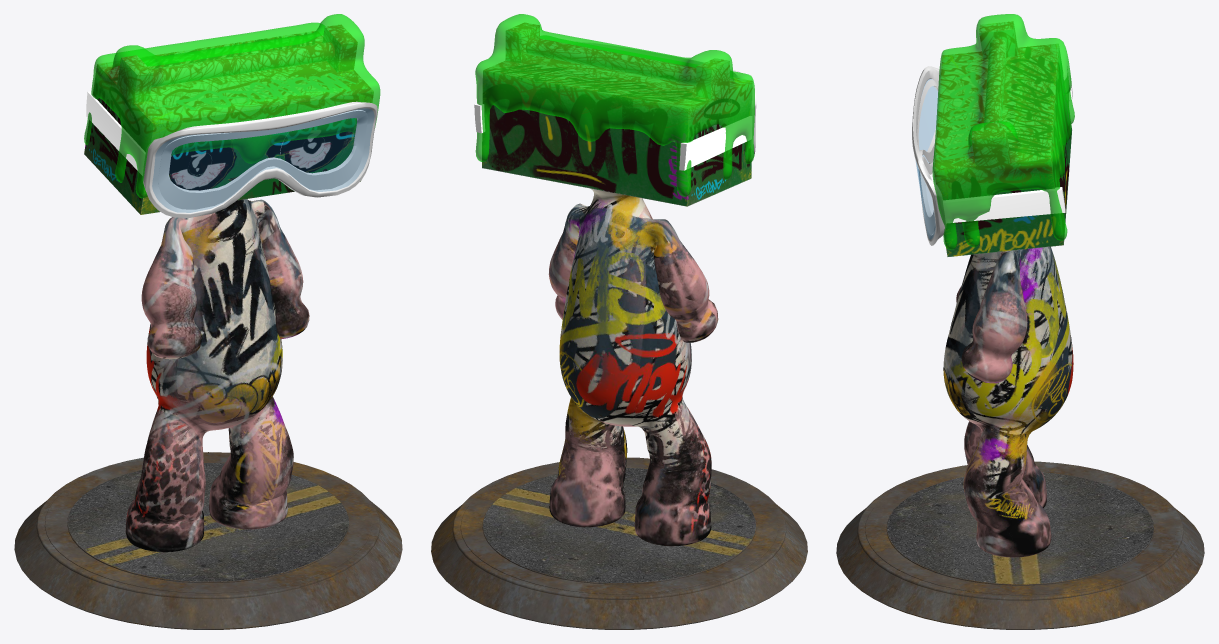
File: 17_sanitized.glb
The picture shows the model from 3 angles, left to right: view 1: azimuth 30°, elevation 25°; view 2: azimuth 150°, elevation 25°; view 3: azimuth 270°, elevation 25°; orthographic projection. The views are drawn at different scales.
Parts seen in each view (by area): view 1: BBody; view 2: BBody; view 3: BBody.
Part boxes in pixels (box(x1,y1,x2,y2)): BBody: box(14, 14, 402, 629); BBody: box(431, 14, 807, 629); BBody: box(836, 14, 1204, 629).
Size of the model in its own units: 1.45 by 2.16 by 1.45.
8 materials, 4 textured.
